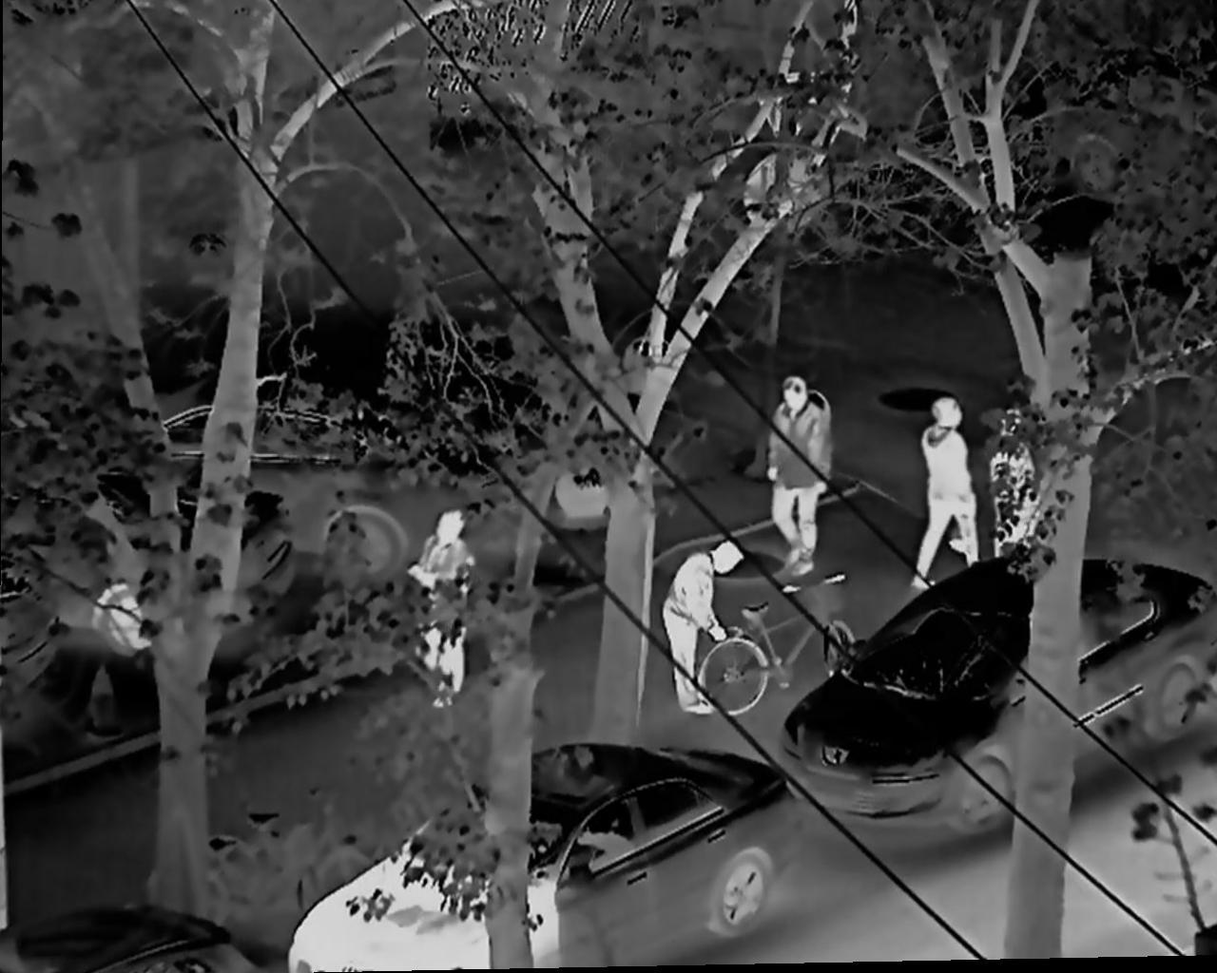person: (662, 541, 744, 715), (764, 375, 833, 576), (405, 508, 472, 709), (911, 397, 979, 588)
